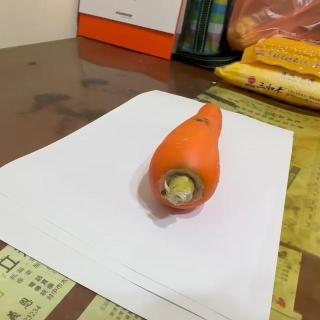carrot: (146, 102, 224, 214)
